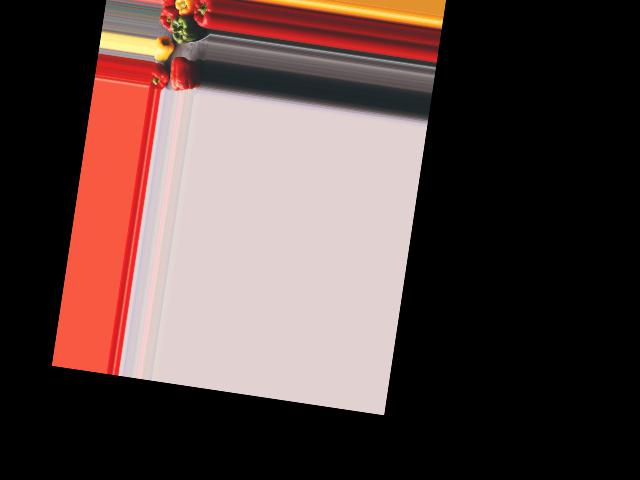bell_pepper: (150, 62, 170, 91)
